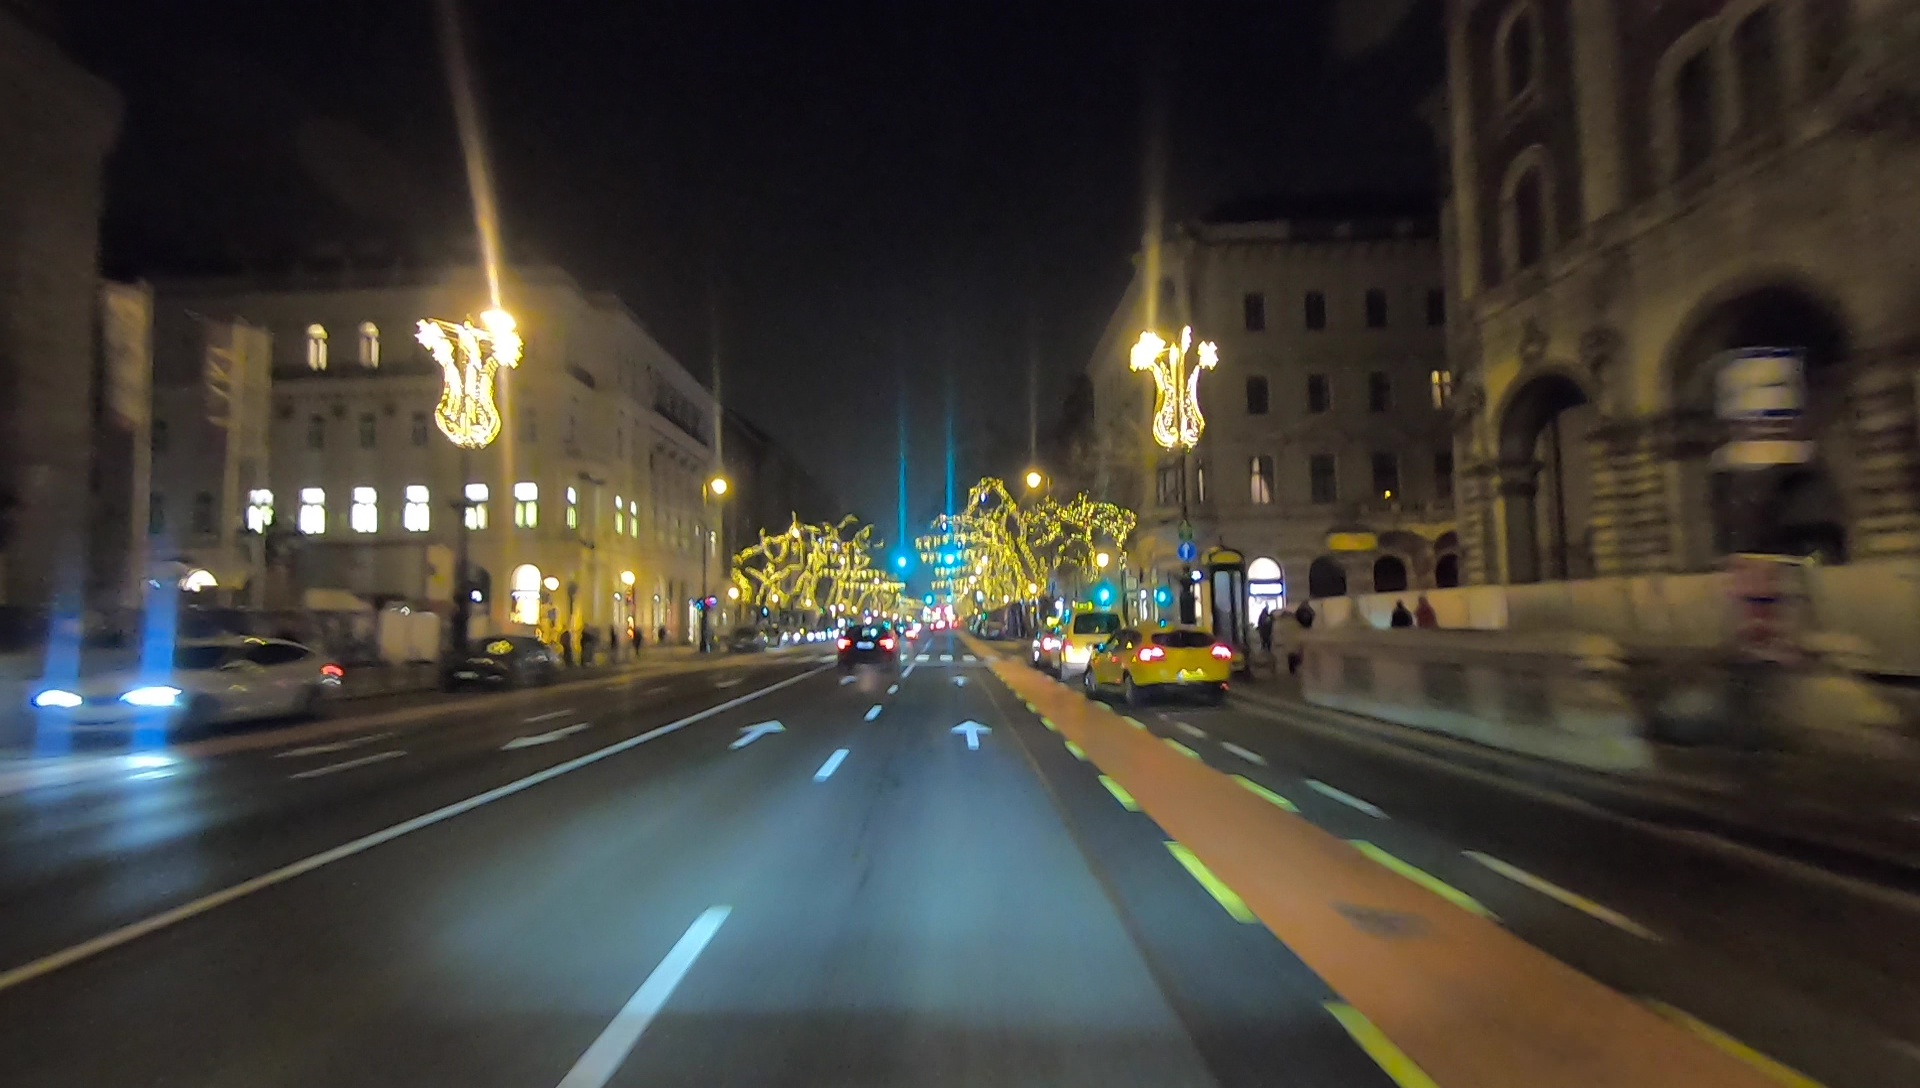person: (1391, 604, 1412, 691)
